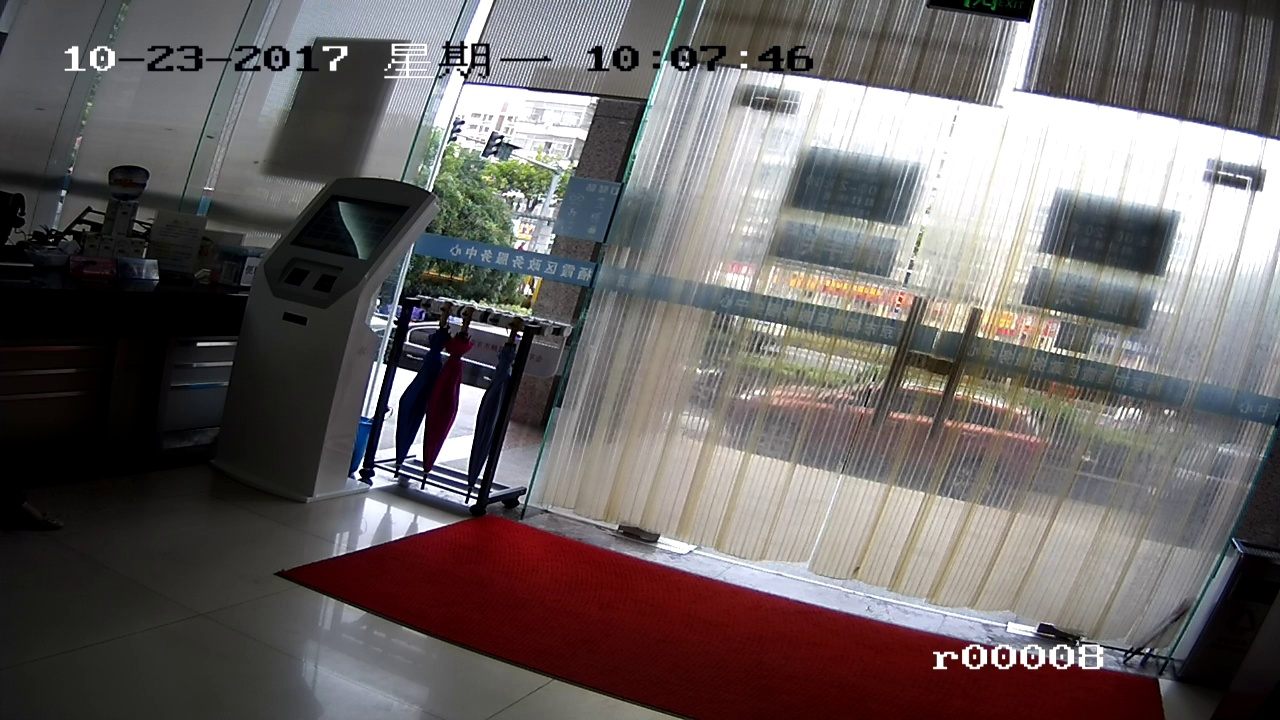monitor: (307, 192, 402, 272)
